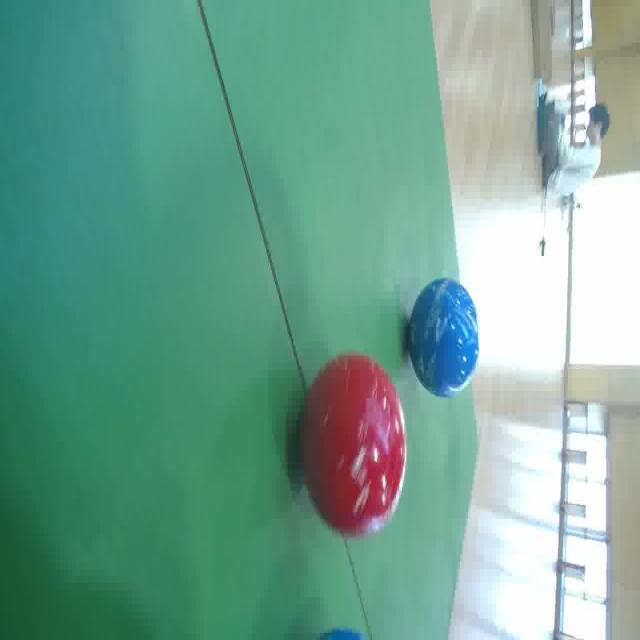blue_ball: (406, 274, 481, 398)
red_ball: (293, 351, 408, 534)
